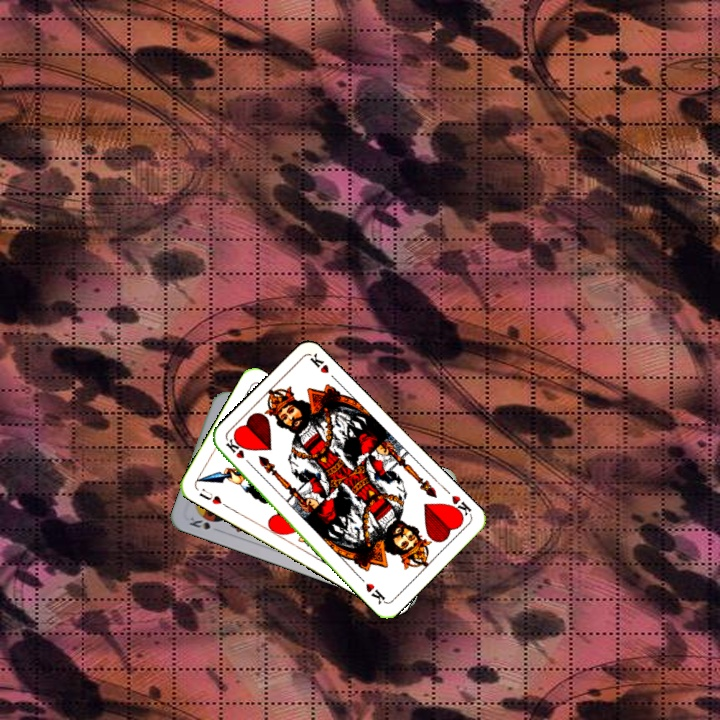HK: (222, 435, 255, 469), (444, 491, 474, 522)
HU: (195, 484, 230, 510)
SK: (184, 512, 223, 535)
